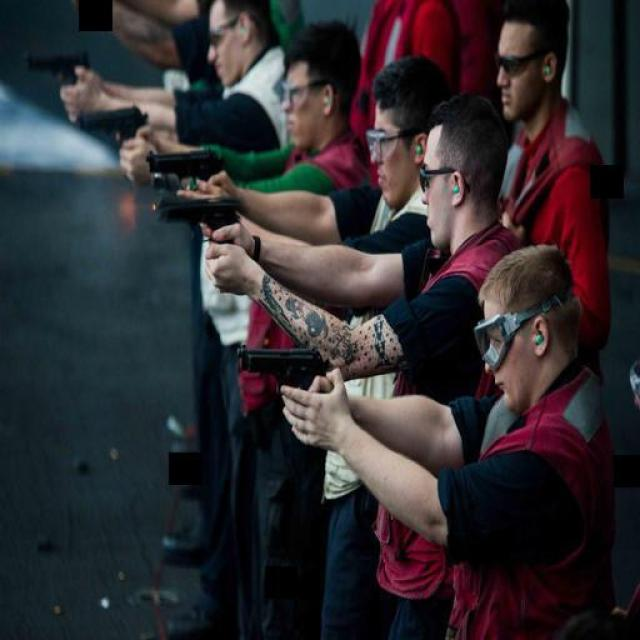gun: (231, 340, 324, 401), (155, 189, 236, 250), (140, 144, 221, 188), (72, 102, 148, 144), (20, 42, 90, 84)
